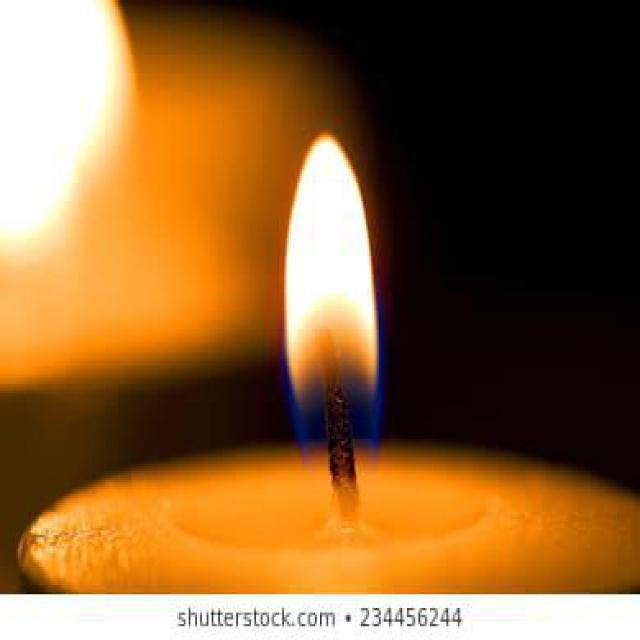Fire: (284, 131, 379, 454)
